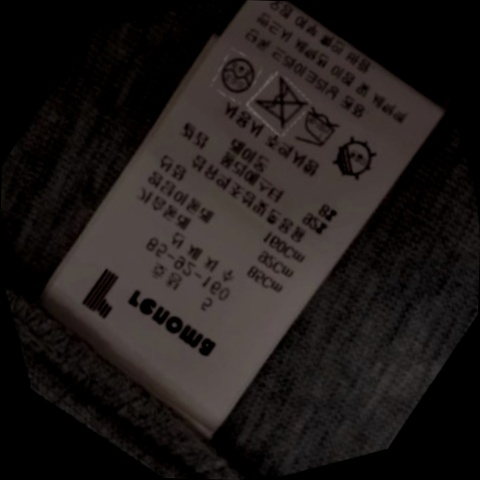DN_wash: (245, 73, 312, 134)
dry_clean_petrol_only: (210, 48, 262, 100)
iron_low: (289, 103, 347, 157)
line_dry_in_shade: (320, 132, 383, 188)
